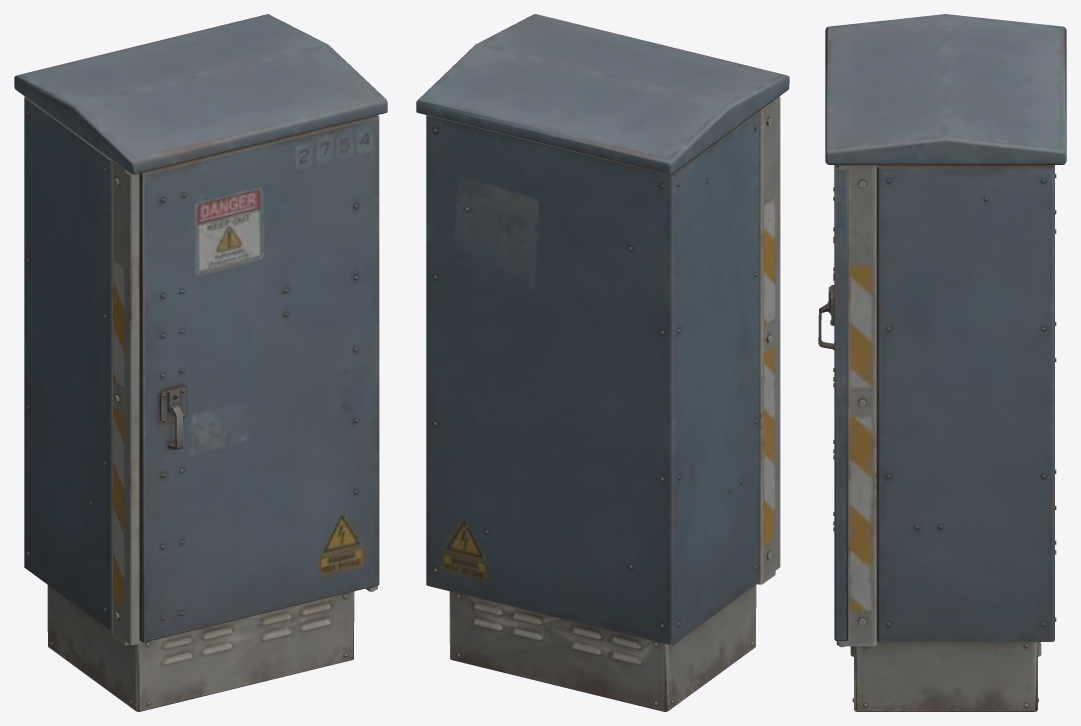
File: utility_box_01.glb
3 renders of one model, left to right at view 1: azimuth 30°, elevation 25°; view 2: azimuth 150°, elevation 25°; view 3: azimuth 270°, elevation 25°, orthographic.
Visible parts, largest first — view 1: utility_box_01_box; view 2: utility_box_01_box; view 3: utility_box_01_box.
Part boxes in pixels (x1,y1,x2,y2): utility_box_01_box: (14,14,387,711); utility_box_01_box: (416,14,789,711); utility_box_01_box: (818,14,1066,711).
Size of the model in its own units: 0.52 by 1.12 by 0.4319.
Materials: 1 (1 with a texture image).
